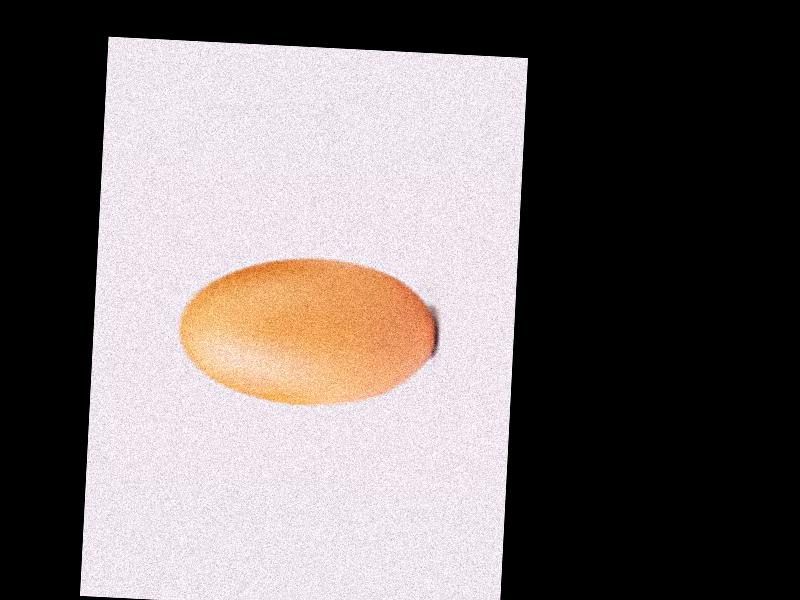Eggs: (172, 253, 441, 409)
